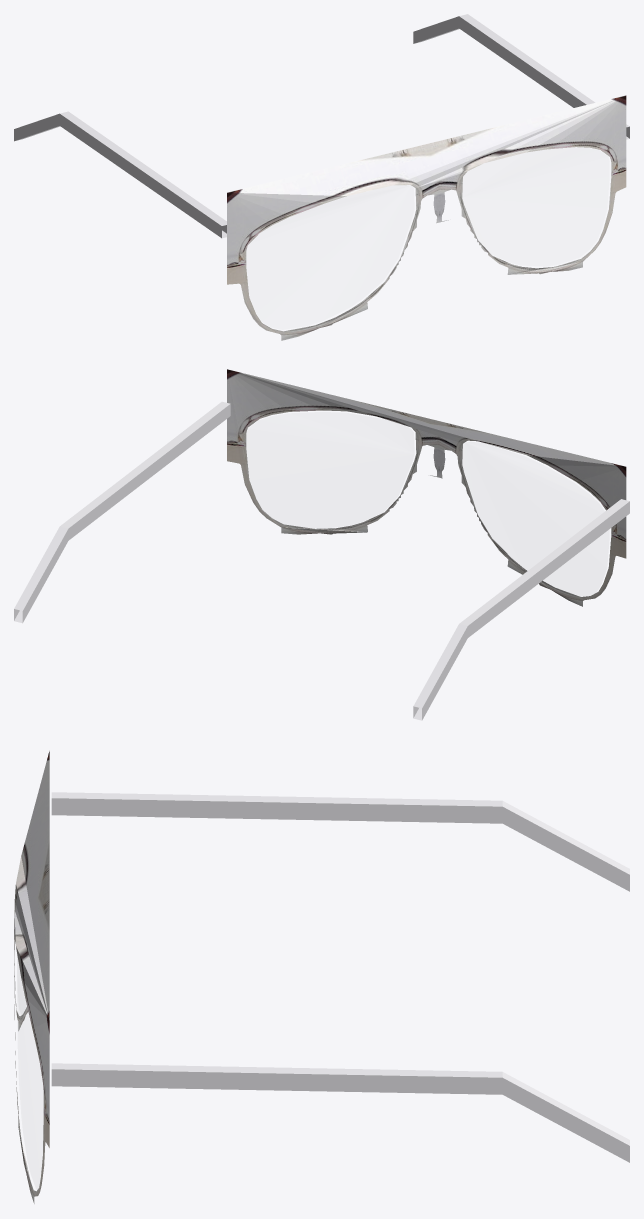
The model's file is gothamstyle-stainless-27_shiny-gold.glb.
3 renders of one model, top to bottom at view 1: azimuth 30°, elevation 25°; view 2: azimuth 150°, elevation 25°; view 3: azimuth 270°, elevation 25°, orthographic. The views are drawn at different scales.
Parts seen in each view (by area): view 1: frame_front, temple_viewer_left, temple_viewer_right; view 2: frame_front, temple_viewer_right, temple_viewer_left; view 3: temple_viewer_right, temple_viewer_left, frame_front.
Part boxes in pixels (box(x1,y1,x2,y2)): frame_front: box(227, 95, 626, 340); temple_viewer_left: box(14, 111, 226, 238); temple_viewer_right: box(413, 14, 629, 139); frame_front: box(227, 369, 626, 606); temple_viewer_right: box(14, 401, 230, 623); temple_viewer_left: box(413, 499, 629, 720); temple_viewer_right: box(51, 1063, 629, 1162); temple_viewer_left: box(51, 792, 629, 891); frame_front: box(14, 751, 49, 1203).
Bounding box in the file's own units: 0.1394 × 0.051 × 0.131.
3 materials, 2 textured.
